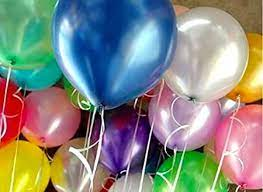Balloon: (51, 1, 178, 110), (160, 8, 248, 105), (149, 85, 223, 152), (90, 108, 154, 170), (20, 85, 81, 149), (1, 1, 57, 70), (216, 104, 263, 186), (51, 136, 111, 192), (1, 139, 50, 192)
